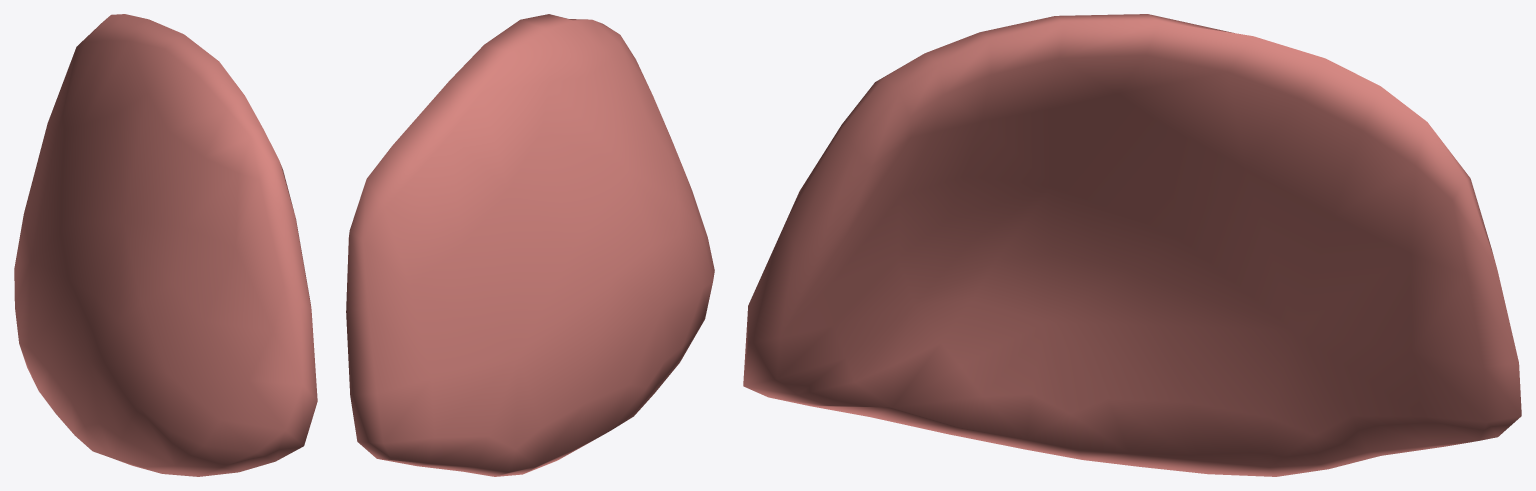
The picture shows the model from 3 angles, left to right: view 1: azimuth 30°, elevation 25°; view 2: azimuth 150°, elevation 25°; view 3: azimuth 270°, elevation 25°; orthographic projection. The views are drawn at different scales.
Parts seen in each view (by area): view 1: ZA_f47994bc38689dba; view 2: ZA_f47994bc38689dba; view 3: ZA_f47994bc38689dba.
Part boxes in pixels (left/top/right/bottom): ZA_f47994bc38689dba: left=14, top=14, right=317, bottom=476; ZA_f47994bc38689dba: left=346, top=14, right=714, bottom=476; ZA_f47994bc38689dba: left=743, top=14, right=1521, bottom=476.
Size of the model in its own units: 0.00161 by 0.0036 by 0.00496.
